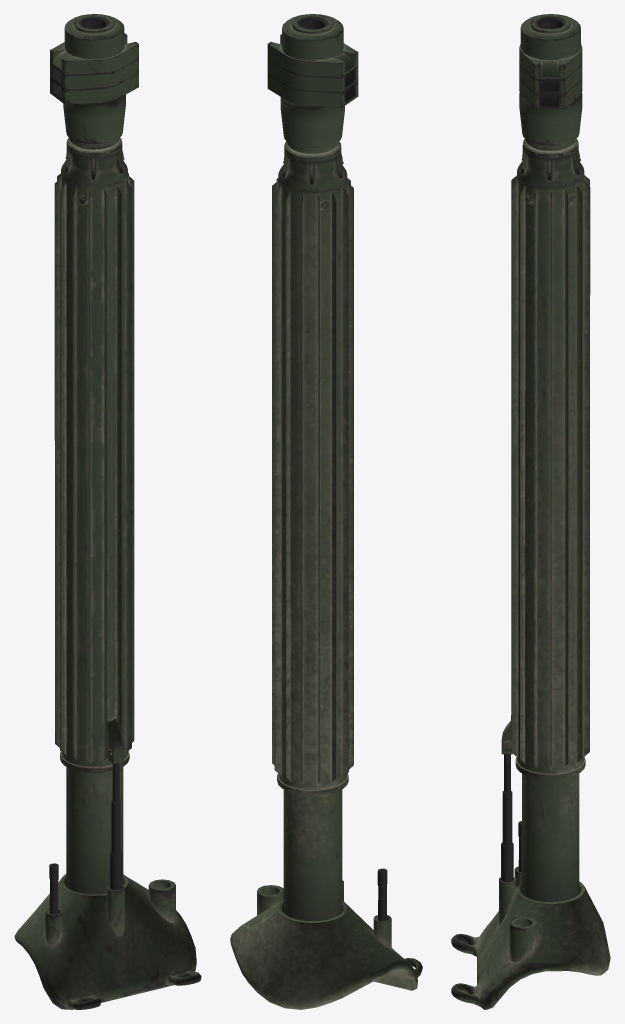
The model's file is Gun_02.glb.
The picture shows the model from 3 angles, left to right: view 1: azimuth 30°, elevation 25°; view 2: azimuth 150°, elevation 25°; view 3: azimuth 270°, elevation 25°; orthographic projection. The views are drawn at different scales.
Parts seen in each view (by area): view 1: set_0_group_0; view 2: set_0_group_0; view 3: set_0_group_0.
Boxes of the visible parts, x1,y1,x2,y2 form: set_0_group_0: [14, 14, 201, 1009]; set_0_group_0: [230, 14, 422, 1009]; set_0_group_0: [451, 14, 610, 1009].
Size of the model in its own units: 0.7691 by 4.6 by 0.6941.
1 material, 1 textured.
